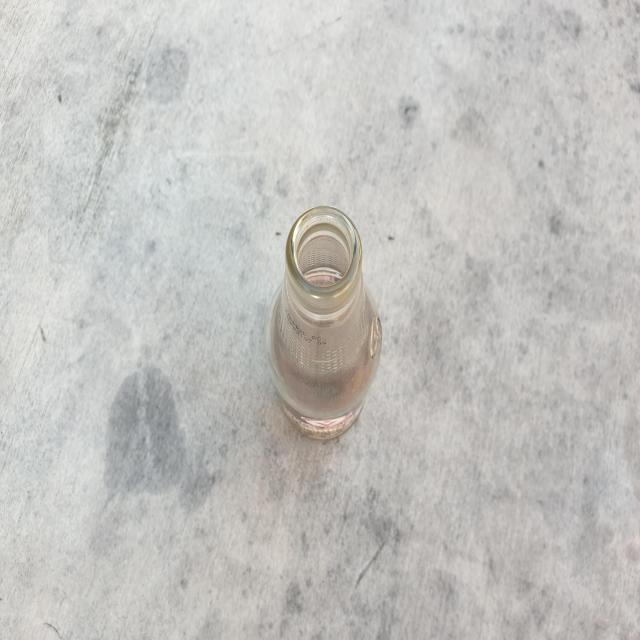glass: (265, 206, 382, 439)
